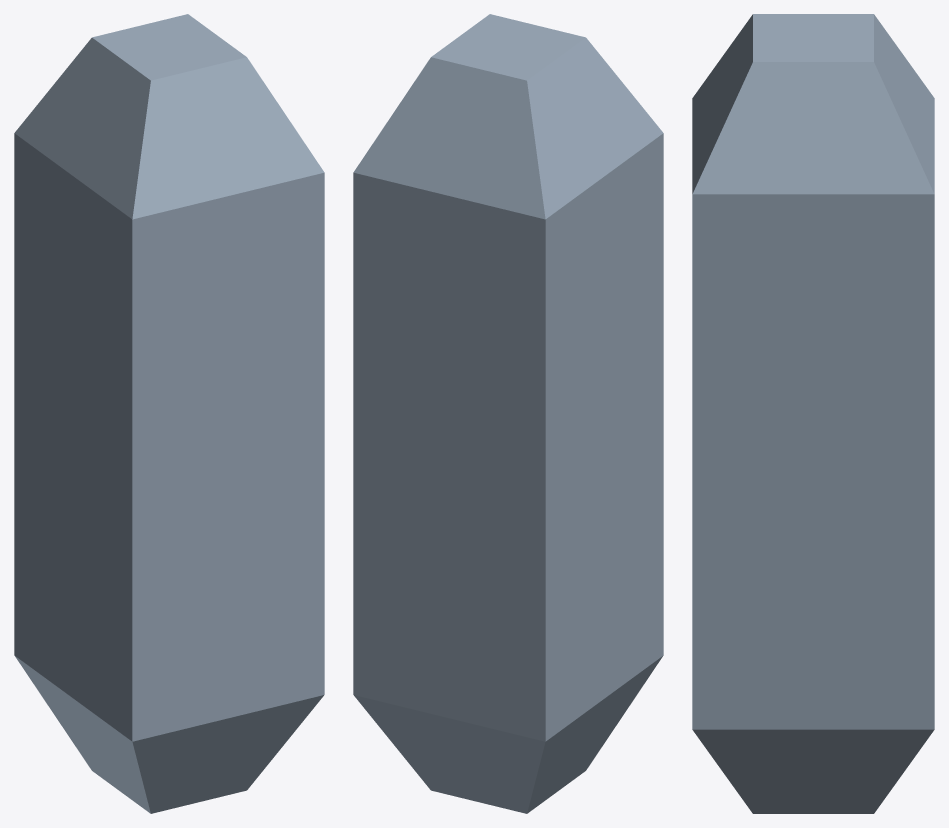
The model's file is TeslaMutant-UpperLeg.fbx.
3 renders of one model, left to right at view 1: azimuth 30°, elevation 25°; view 2: azimuth 150°, elevation 25°; view 3: azimuth 270°, elevation 25°, orthographic. The views are drawn at different scales.
Visible parts, largest first — view 1: TeslaMutant-UpperLeg; view 2: TeslaMutant-UpperLeg; view 3: TeslaMutant-UpperLeg.
Part boxes in pixels (x1,y1,x2,y2): TeslaMutant-UpperLeg: [14, 14, 324, 813]; TeslaMutant-UpperLeg: [353, 14, 663, 813]; TeslaMutant-UpperLeg: [692, 14, 934, 813].
Size of the model in its own units: 0.1568 by 0.5717 by 0.1668.
